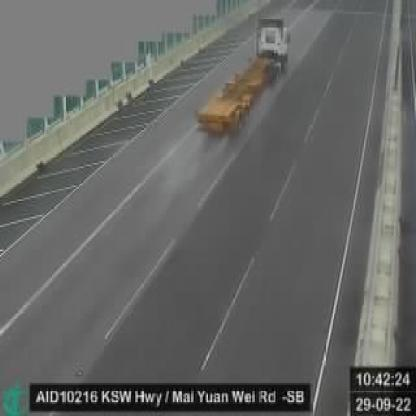Truck: (191, 12, 299, 141)
